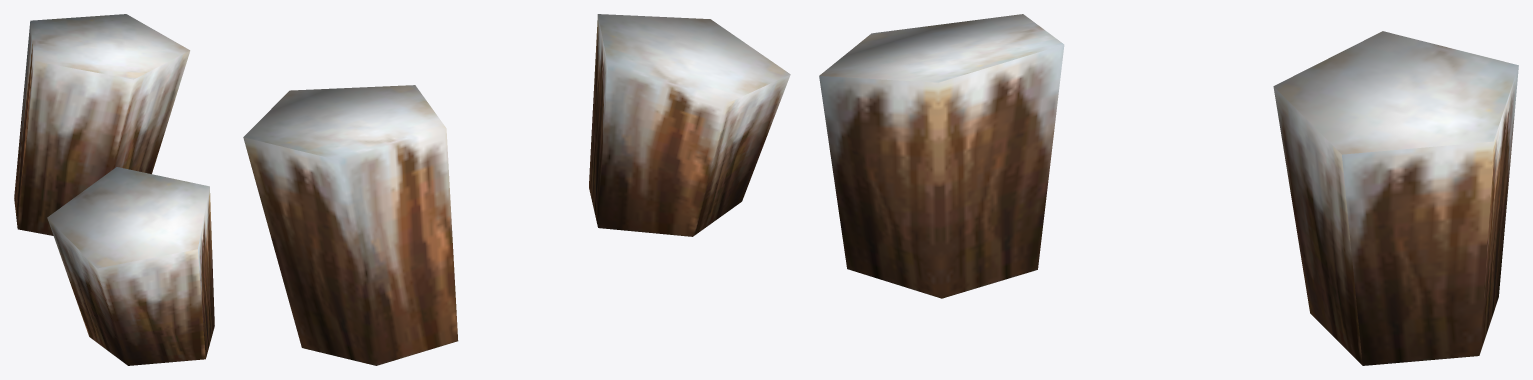
Rendered from SM_Enclosure_21.fbx.
The picture shows the model from 3 angles, left to right: view 1: azimuth 30°, elevation 25°; view 2: azimuth 150°, elevation 25°; view 3: azimuth 270°, elevation 25°; orthographic projection. The views are drawn at different scales.
Parts seen in each view (by area): view 1: SM_Enclosure_21; view 2: SM_Enclosure_21; view 3: SM_Enclosure_21.
Part boxes in pixels (box(x1,y1,x2,y2)): SM_Enclosure_21: box(14, 14, 214, 365); SM_Enclosure_21: box(243, 14, 790, 365); SM_Enclosure_21: box(819, 14, 1518, 365).
Bounding box in the file's own units: 0.6632 × 0.4497 × 1.07.
